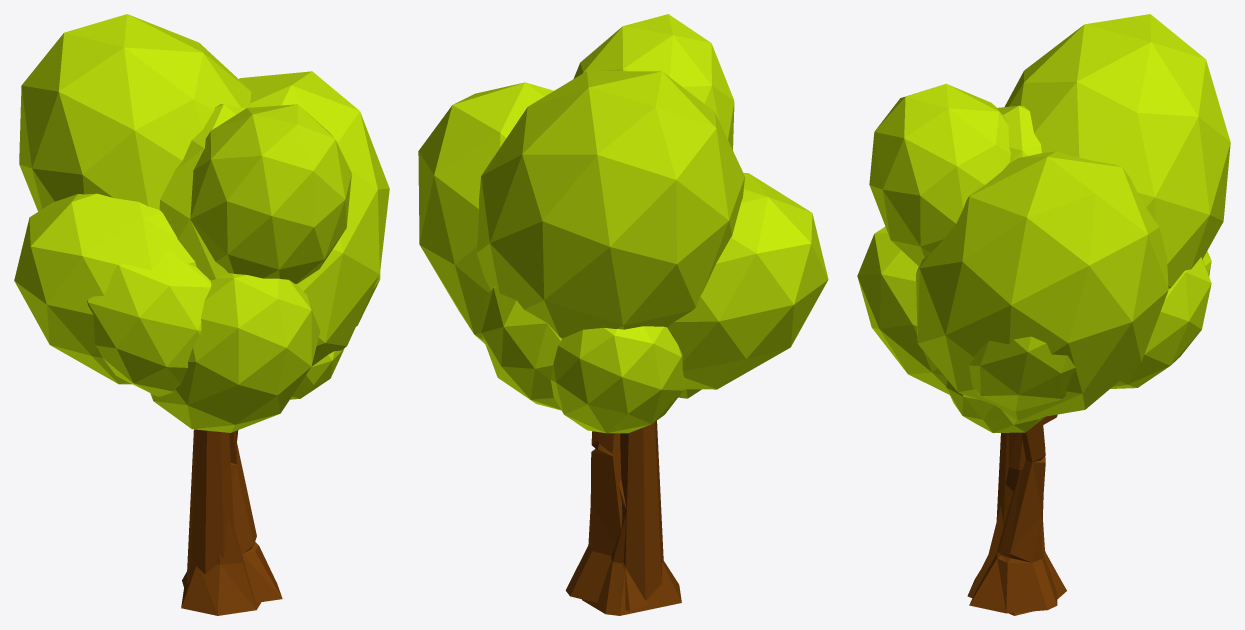
File: TREE_ASSET (1).fbx
The picture shows the model from 3 angles, left to right: view 1: azimuth 30°, elevation 25°; view 2: azimuth 150°, elevation 25°; view 3: azimuth 270°, elevation 25°; orthographic projection. The views are drawn at different scales.
Parts seen in each view (by area): view 1: APPLE_TREE_1, LEMON_TREE_1, APPLE_TREE_2, LEMON_TREE_2, ORANGE_TREE_2; view 2: APPLE_TREE_1, APPLE_TREE_2, ORANGA_TREE_1, ORANGE_TREE_2, LEMON_TREE_2; view 3: APPLE_TREE_1, ORANGE_TREE_2, LEMON_TREE_1, ORANGA_TREE_1, LEMON_TREE_2, APPLE_TREE_2.
Boxes of the visible parts, <box> form: APPLE_TREE_1: <box>14,14,389,432</box>; LEMON_TREE_1: <box>87,104,380,396</box>; APPLE_TREE_2: <box>186,429,233,584</box>; LEMON_TREE_2: <box>181,431,261,615</box>; ORANGE_TREE_2: <box>182,430,282,602</box>; APPLE_TREE_1: <box>418,14,828,433</box>; APPLE_TREE_2: <box>620,421,663,600</box>; ORANGA_TREE_1: <box>481,286,561,410</box>; ORANGE_TREE_2: <box>565,431,648,610</box>; LEMON_TREE_2: <box>582,479,681,615</box>; APPLE_TREE_1: <box>857,14,1230,433</box>; ORANGE_TREE_2: <box>969,414,1057,613</box>; LEMON_TREE_1: <box>969,105,1076,411</box>; ORANGA_TREE_1: <box>1038,152,1211,388</box>; LEMON_TREE_2: <box>967,432,1066,615</box>; APPLE_TREE_2: <box>996,433,1013,523</box>.
Size of the model in its own units: 889 by 1316 by 828.
